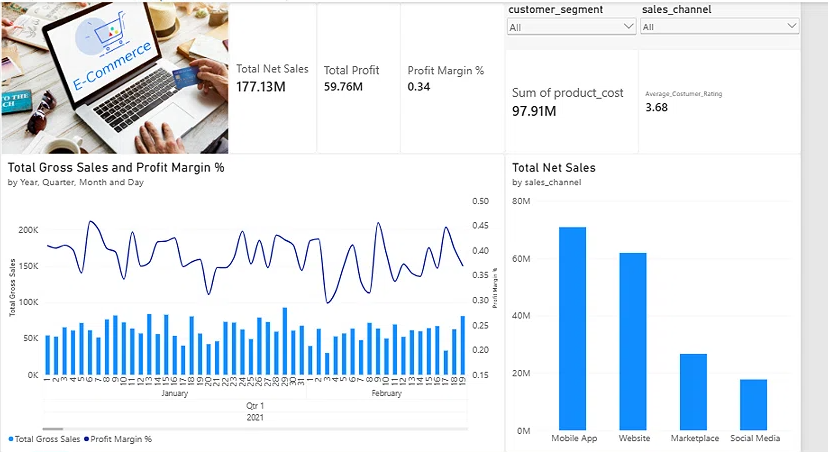

Layout of this report page (visuals, bound fields, positions):
{"tool":"powerbi","page":{"name":"Page 1","canvas":[1920,1080],"ordinal":0},"visuals":[{"type":"cardVisual","fields":{"Data":["ecommerce_sales_customer_analytics_150k.Total Net Sales"]},"box":[549.3,0,209.1,362.8],"z":0},{"type":"cardVisual","fields":{"Data":["ecommerce_sales_customer_analytics_150k.Profit Margin %"]},"box":[960,0,249.4,362.8],"z":1000},{"type":"cardVisual","fields":{"Data":["ecommerce_sales_customer_analytics_150k.Total Profit"]},"box":[758.4,0,201.6,362.8],"z":2000},{"type":"lineClusteredColumnComboChart","fields":{"Category":["ecommerce_sales_customer_analytics_150k.order_date.Variation.Date Hierarchy.Year","ecommerce_sales_customer_analytics_150k.order_date.Variation.Date Hierarchy.Quarter","ecommerce_sales_customer_analytics_150k.order_date.Variation.Date Hierarchy.Month","ecommerce_sales_customer_analytics_150k.order_date.Variation.Date Hierarchy.Day"],"Y":["ecommerce_sales_customer_analytics_150k.Total Gross Sales"],"Y2":["ecommerce_sales_customer_analytics_150k.Profit Margin %"]},"box":[0,362.8,1209.4,718.1],"z":3000},{"type":"columnChart","fields":{"Category":["ecommerce_sales_customer_analytics_150k.sales_channel"],"Y":["ecommerce_sales_customer_analytics_150k.Total Net Sales"]},"box":[1209.6,362.9,710.6,717.1],"z":4000},{"type":"slicer","fields":{"Values":["ecommerce_sales_customer_analytics_150k.customer_segment"]},"box":[1209.6,0,319.7,112.3],"z":4001},{"type":"slicer","fields":{"Values":["ecommerce_sales_customer_analytics_150k.sales_channel"]},"box":[1529.3,0,391,112.3],"z":4002},{"type":"image","box":[0,0,549.3,362.8],"z":4003},{"type":"cardVisual","fields":{"Data":["Sum(ecommerce_sales_customer_analytics_150k.product_cost)"]},"box":[1210,112,320,251],"z":4004},{"type":"cardVisual","fields":{"Data":["ecommerce_sales_customer_analytics_150k.Average_Costumer_Rating"]},"box":[1530,112,390,251],"z":4005}]}

Visuals, with their boxes on the page's 1920x1080 design canvas (x1, y1, x2, y2). These are canvas units, not pixel positions in the 828x452 screenshot, which may show the page scaled, cropped or inside an application window:
cardVisual - ecommerce_sales_customer_analytics_150k.Total Net Sales: box=[549, 0, 758, 363]
cardVisual - ecommerce_sales_customer_analytics_150k.Profit Margin %: box=[960, 0, 1209, 363]
cardVisual - ecommerce_sales_customer_analytics_150k.Total Profit: box=[758, 0, 960, 363]
lineClusteredColumnComboChart - ecommerce_sales_customer_analytics_150k.order_date.Variation.Date Hierarchy.Year x ecommerce_sales_customer_analytics_150k.order_date.Variation.Date Hierarchy.Quarter: box=[0, 363, 1209, 1081]
columnChart - ecommerce_sales_customer_analytics_150k.sales_channel x ecommerce_sales_customer_analytics_150k.Total Net Sales: box=[1210, 363, 1920, 1080]
slicer - ecommerce_sales_customer_analytics_150k.customer_segment: box=[1210, 0, 1529, 112]
slicer - ecommerce_sales_customer_analytics_150k.sales_channel: box=[1529, 0, 1920, 112]
image: box=[0, 0, 549, 363]
cardVisual - Sum(ecommerce_sales_customer_analytics_150k.product_cost): box=[1210, 112, 1530, 363]
cardVisual - ecommerce_sales_customer_analytics_150k.Average_Costumer_Rating: box=[1530, 112, 1920, 363]
